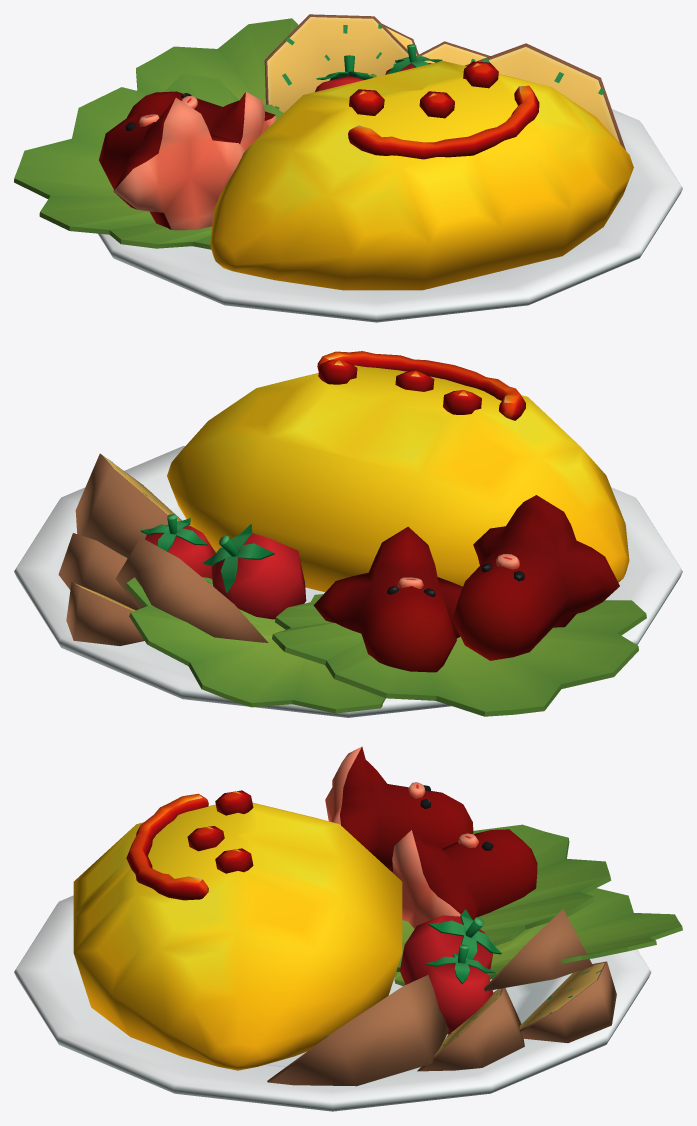
File: CR_caf_Dish_004.FBX
3 views of the same model, one above another, from view 1: azimuth 30°, elevation 25°; view 2: azimuth 150°, elevation 25°; view 3: azimuth 270°, elevation 25° (orthographic). The views are drawn at different scales.
Visible parts, largest first — view 1: CR_caf_Dish_004; view 2: CR_caf_Dish_004; view 3: CR_caf_Dish_004.
Boxes of the visible parts, x1,y1,x2,y2 form: CR_caf_Dish_004: (14,14,682,322); CR_caf_Dish_004: (14,351,682,717); CR_caf_Dish_004: (14,746,682,1111).
Bounding box in the file's own units: 32.27 × 10.92 × 32.36.
